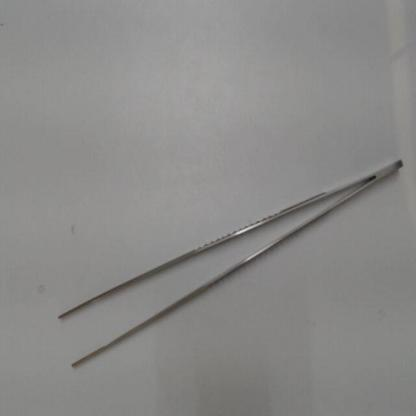DeBakey Dissector: (46, 123, 413, 386)
